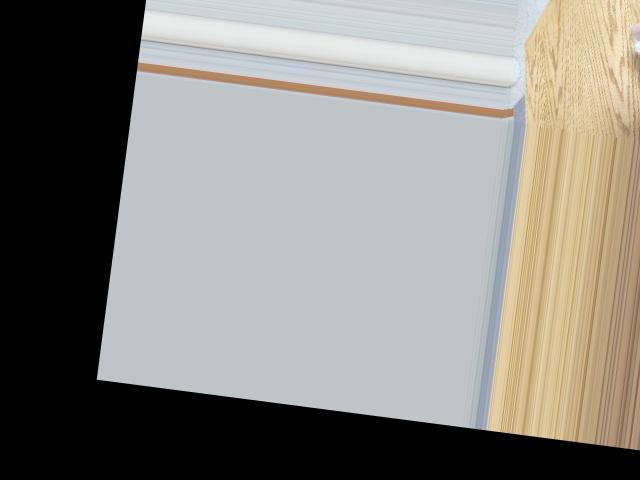cotage: (629, 31, 640, 82)
